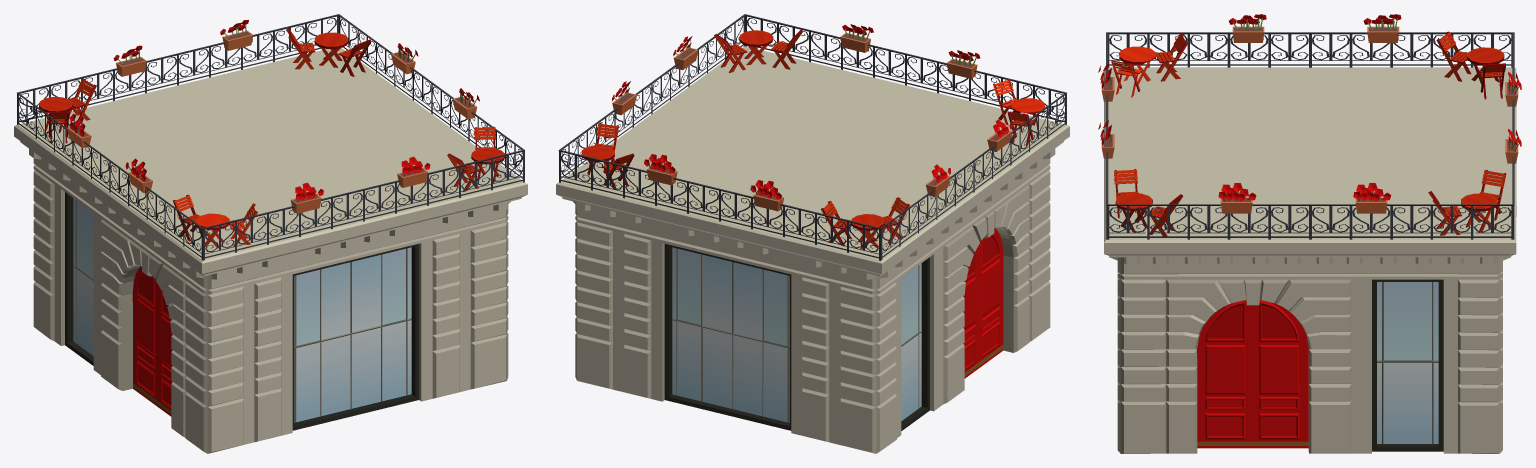
3 views of the same model, side by side, from view 1: azimuth 30°, elevation 25°; view 2: azimuth 150°, elevation 25°; view 3: azimuth 270°, elevation 25° (orthographic). The views are drawn at different scales.
Visible parts, largest first — view 1: frenchBase.056, frenchMid.008, table.001, flowers.017, flowers.016, flowers.014, flowers.015, table.002, table.004, chairWood.002, chairWood.007, flowers.012 (+3 smaller); view 2: frenchBase.056, frenchMid.008, flowers.014, flowers.015, table.004, flowers.017, flowers.016, table.003, chairWood.008, flowers.010, flowers.011, flowers.012 (+3 smaller); view 3: frenchBase.056, frenchMid.008, flowers.011, flowers.010, flowers.012, flowers.013, table.004, table.002, table.001, chairWood.006, table.003, chairWood.002 (+6 smaller).
Part boxes in pixels (left/top/right/bottom): frenchBase.056: left=14, top=48, right=527, bottom=453; frenchMid.008: left=17, top=14, right=524, bottom=260; table.001: left=314, top=32, right=348, bottom=67; flowers.017: left=397, top=156, right=430, bottom=187; flowers.016: left=290, top=182, right=323, bottom=213; flowers.014: left=220, top=20, right=253, bottom=50; flowers.015: left=113, top=45, right=146, bottom=76; table.002: left=196, top=213, right=229, bottom=248; table.004: left=471, top=148, right=504, bottom=183; chairWood.002: left=173, top=194, right=201, bottom=241; chairWood.007: left=68, top=78, right=96, bottom=120; flowers.012: left=64, top=113, right=91, bottom=148; frenchBase.056: left=556, top=46, right=1069, bottom=453; frenchMid.008: left=558, top=14, right=1066, bottom=260; flowers.014: left=644, top=154, right=677, bottom=185; flowers.015: left=750, top=180, right=784, bottom=211; table.004: left=739, top=30, right=773, bottom=65; flowers.017: left=840, top=24, right=873, bottom=52; flowers.016: left=946, top=50, right=980, bottom=78; table.003: left=851, top=214, right=884, bottom=249; chairWood.008: left=714, top=34, right=747, bottom=72; flowers.010: left=673, top=36, right=698, bottom=70; flowers.011: left=612, top=81, right=636, bottom=115; flowers.012: left=926, top=164, right=950, bottom=196; frenchBase.056: left=1104, top=67, right=1516, bottom=453; frenchMid.008: left=1106, top=32, right=1514, bottom=239; flowers.011: left=1353, top=183, right=1391, bottom=213; flowers.010: left=1218, top=183, right=1256, bottom=213; flowers.012: left=1363, top=14, right=1401, bottom=42; flowers.013: left=1229, top=14, right=1266, bottom=42; table.004: left=1115, top=193, right=1152, bottom=232; table.002: left=1119, top=46, right=1155, bottom=84; table.001: left=1461, top=193, right=1497, bottom=232; chairWood.006: left=1436, top=31, right=1471, bottom=81; table.003: left=1467, top=47, right=1504, bottom=86; chairWood.002: left=1156, top=33, right=1188, bottom=81.
Size of the model in its own units: 0.871 by 0.6247 by 0.871.
